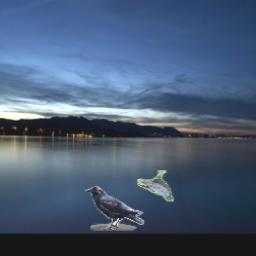Crow: (85, 186, 144, 231), (137, 170, 174, 201)
